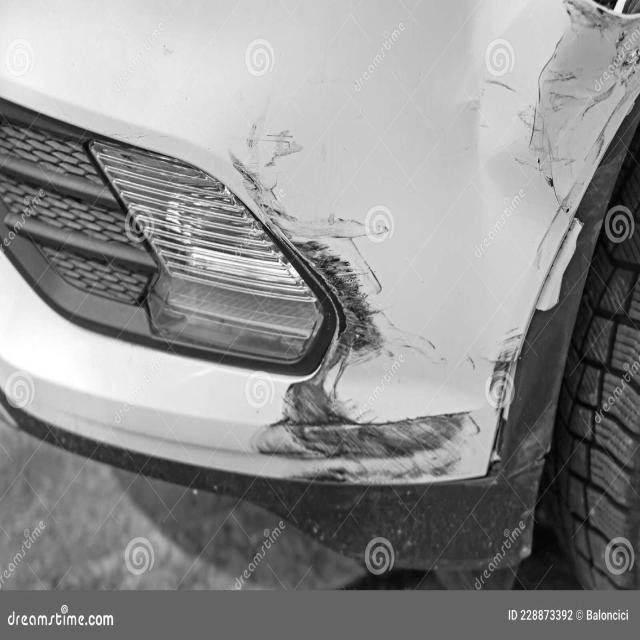dent: (440, 0, 616, 276)
scratch: (224, 87, 531, 490), (481, 0, 640, 275), (512, 399, 556, 473)
